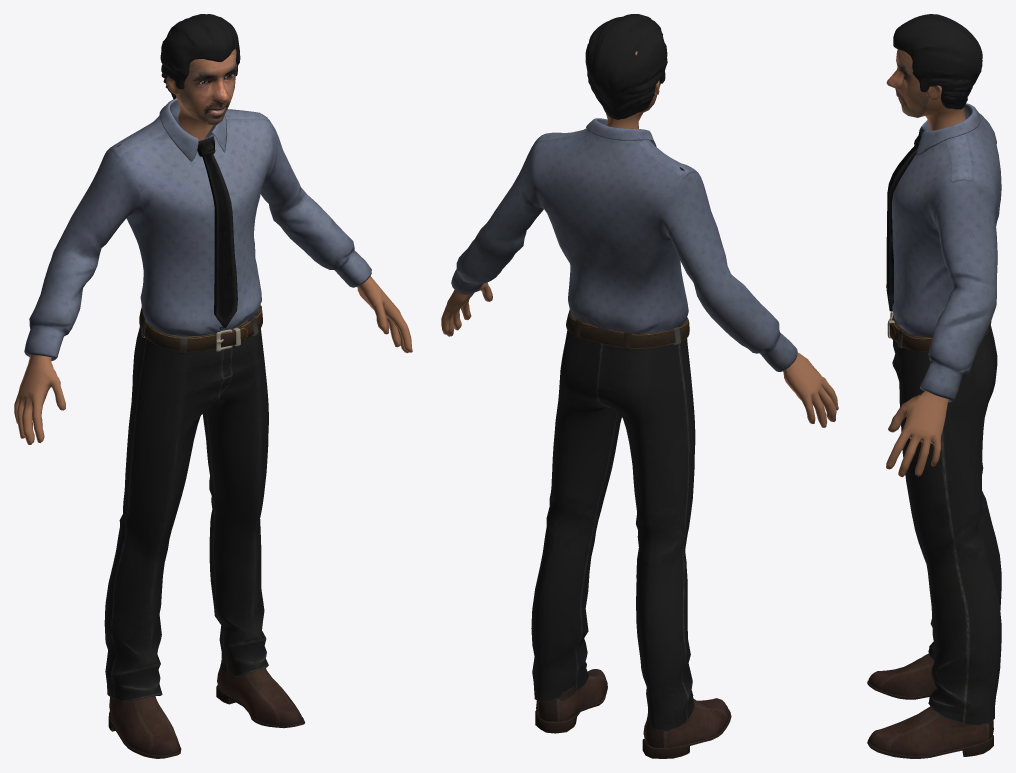
File: Chula3.glb
3 views of the same model, side by side, from view 1: azimuth 30°, elevation 25°; view 2: azimuth 150°, elevation 25°; view 3: azimuth 270°, elevation 25° (orthographic).
Parts seen in each view (by area): view 1: Wolf3D_Outfit_Top, Wolf3D_Outfit_Bottom, Wolf3D_Outfit_Footwear, Wolf3D_Body, Haed, Wolf3D_Hair; view 2: Wolf3D_Outfit_Bottom, Wolf3D_Outfit_Top, Wolf3D_Hair, Wolf3D_Outfit_Footwear, Wolf3D_Body; view 3: Wolf3D_Outfit_Bottom, Wolf3D_Outfit_Top, Wolf3D_Outfit_Footwear, Wolf3D_Hair, Wolf3D_Body, Haed.
Boxes of the visible parts, bbox=[...] form: Wolf3D_Outfit_Top: bbox=[24, 98, 371, 360]; Wolf3D_Outfit_Bottom: bbox=[104, 305, 268, 701]; Wolf3D_Outfit_Footwear: bbox=[108, 658, 305, 758]; Wolf3D_Body: bbox=[14, 276, 412, 444]; Haed: bbox=[166, 32, 237, 140]; Wolf3D_Hair: bbox=[160, 14, 240, 99]; Wolf3D_Outfit_Bottom: bbox=[531, 309, 695, 731]; Wolf3D_Outfit_Top: bbox=[451, 118, 797, 371]; Wolf3D_Hair: bbox=[585, 14, 667, 119]; Wolf3D_Outfit_Footwear: bbox=[535, 669, 731, 758]; Wolf3D_Body: bbox=[441, 282, 838, 427]; Wolf3D_Outfit_Bottom: bbox=[887, 311, 1001, 725]; Wolf3D_Outfit_Top: bbox=[886, 103, 1001, 402]; Wolf3D_Outfit_Footwear: bbox=[867, 653, 993, 758]; Wolf3D_Hair: bbox=[893, 14, 982, 109]; Wolf3D_Body: bbox=[886, 284, 948, 477]; Haed: bbox=[886, 49, 965, 131].
Size of the model in its own units: 1.06 by 1.86 by 0.3229.
Materials: 7 (6 with a texture image).
